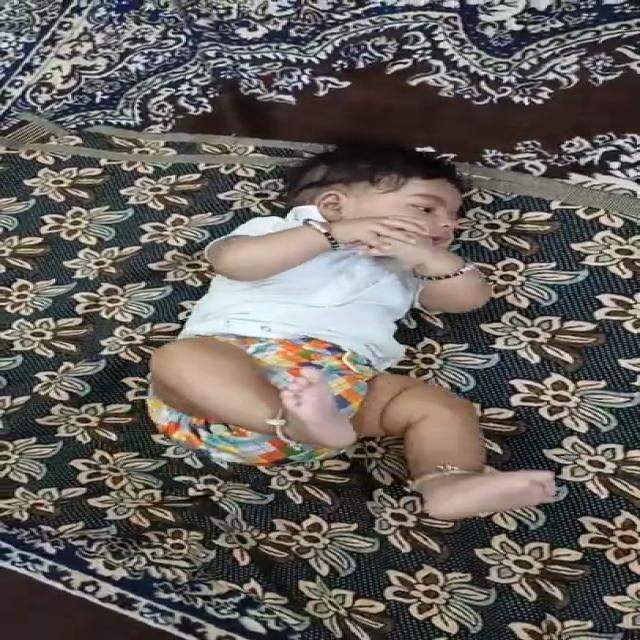baby: (133, 142, 571, 524)
